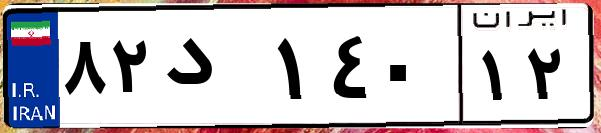0: (385, 28, 445, 110)
1: (270, 28, 330, 110), (475, 38, 525, 113)
2: (525, 38, 570, 115), (110, 28, 158, 98)
4: (330, 28, 385, 110)
8: (57, 26, 110, 100)
د: (158, 20, 270, 120)
